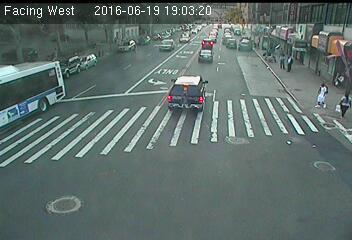neg: (121, 59, 135, 77), (89, 86, 103, 104), (196, 48, 209, 64), (224, 127, 236, 144), (160, 84, 172, 100), (192, 80, 203, 95), (159, 135, 170, 150), (278, 144, 289, 159), (66, 193, 75, 206)
pos: (309, 78, 332, 110), (334, 88, 351, 120), (282, 54, 296, 73), (277, 54, 289, 70), (278, 46, 286, 56)
